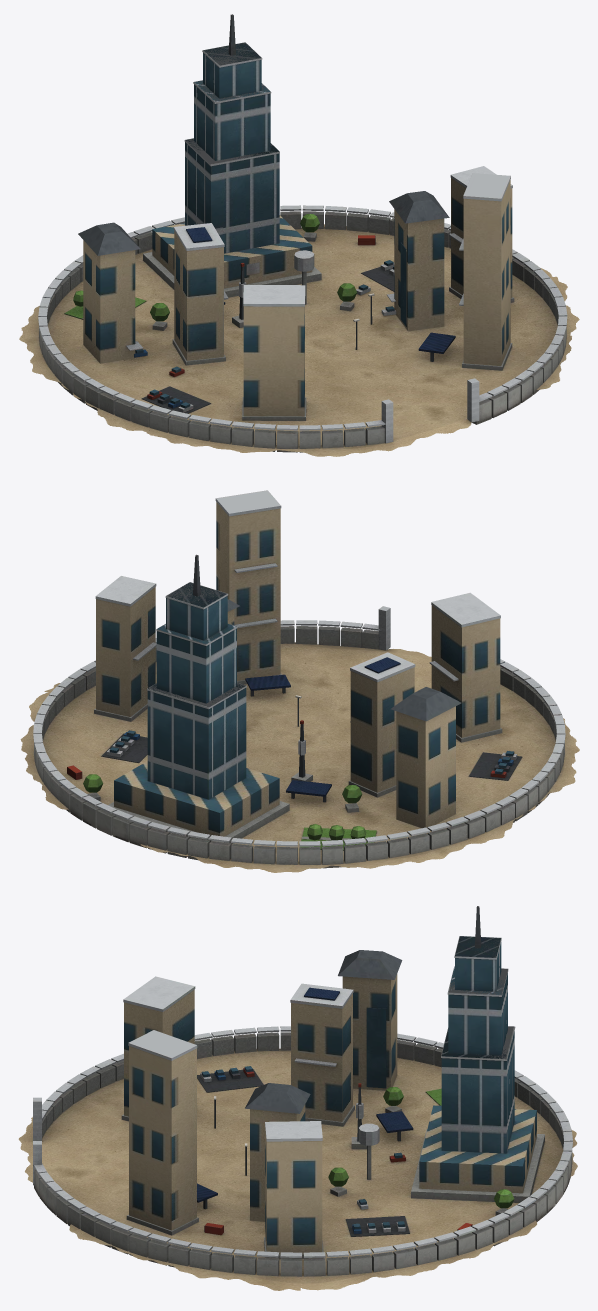
The model's file is information-town-small-a-levant.glb.
The picture shows the model from 3 angles, top to bottom: view 1: azimuth 30°, elevation 25°; view 2: azimuth 150°, elevation 25°; view 3: azimuth 270°, elevation 25°; orthographic projection. The views are drawn at different scales.
Visible parts, largest first — view 1: LOD0; view 2: LOD0; view 3: LOD0.
Part boxes in pixels (x1,y1,x2,y2): LOD0: (19, 14, 579, 456); LOD0: (20, 490, 579, 872); LOD0: (18, 906, 577, 1290).
Size of what is drawn, in the model's own units: 4.01 by 1.98 by 3.83.
3 materials, 3 textured.
